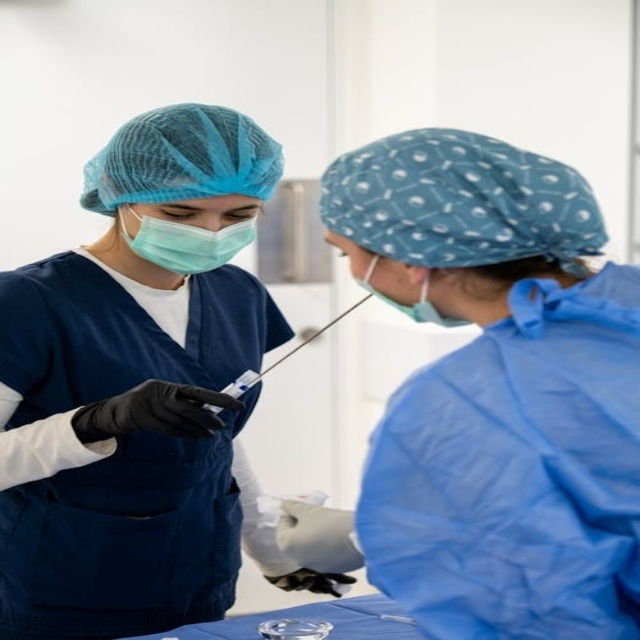Guantes: (71, 379, 245, 445), (264, 568, 354, 597)
Mascara: (117, 201, 260, 276), (361, 252, 468, 328)
Sin_gafas: (155, 201, 260, 225), (321, 234, 370, 265)
